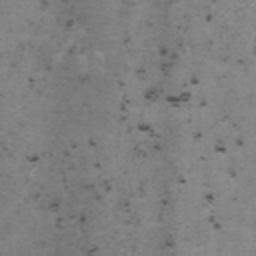Oxide scale of temperature system: (27, 35, 246, 256), (40, 0, 74, 31), (204, 13, 214, 22), (27, 77, 36, 83)
